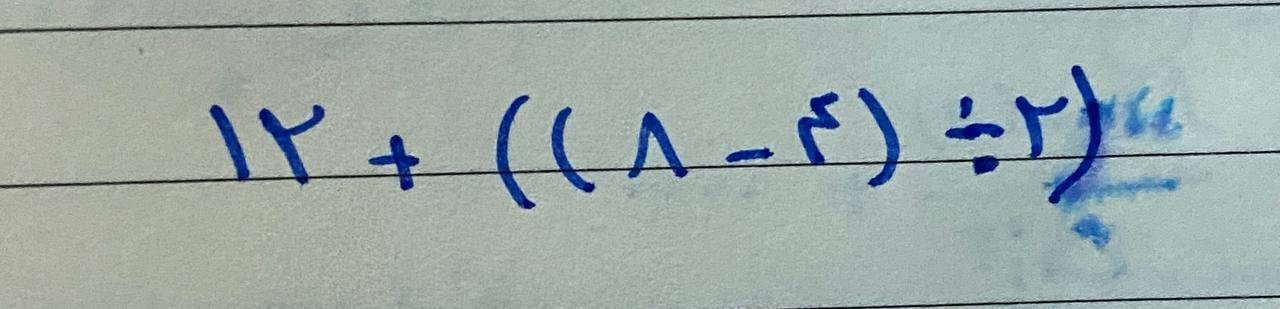character: (258, 105, 324, 182), (496, 94, 537, 211), (626, 111, 689, 182), (946, 98, 1002, 171), (551, 105, 596, 193), (859, 90, 900, 186), (1072, 70, 1101, 198), (208, 104, 252, 182), (1017, 93, 1067, 159), (797, 94, 841, 164), (371, 133, 423, 190), (728, 145, 771, 164)
